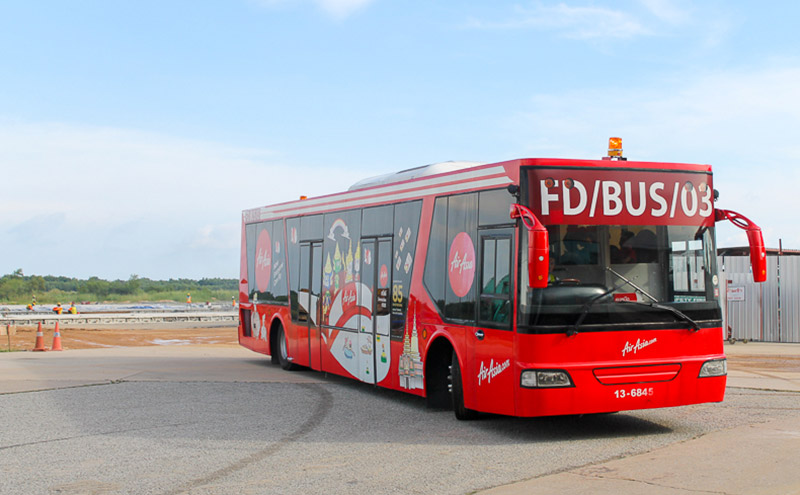bus: (237, 154, 727, 421)
